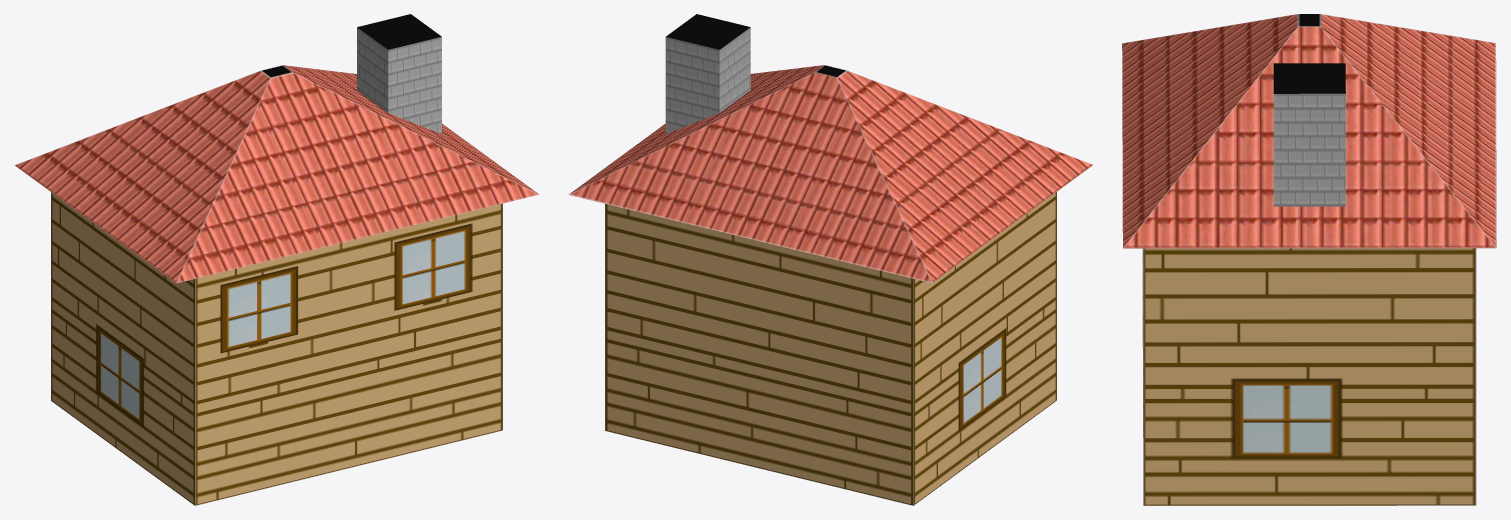
File: building.gltf
The picture shows the model from 3 angles, left to right: view 1: azimuth 30°, elevation 25°; view 2: azimuth 150°, elevation 25°; view 3: azimuth 270°, elevation 25°; orthographic projection. The views are drawn at different scales.
Parts seen in each view (by area): view 1: pCube3; view 2: pCube3; view 3: pCube3.
Boxes of the visible parts, left/top/right/bottom form: pCube3: left=15, top=14, right=538, bottom=505; pCube3: left=568, top=14, right=1092, bottom=505; pCube3: left=1122, top=14, right=1496, bottom=505.
Bounding box in the file's own units: 30.7 × 28.51 × 23.64.
Materials: 1 (1 with a texture image).
